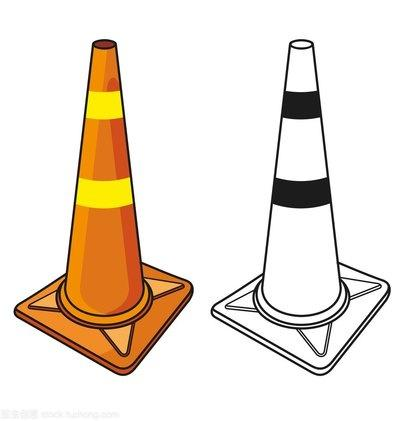cone_barrel: (39, 41, 168, 327), (245, 37, 352, 327)
